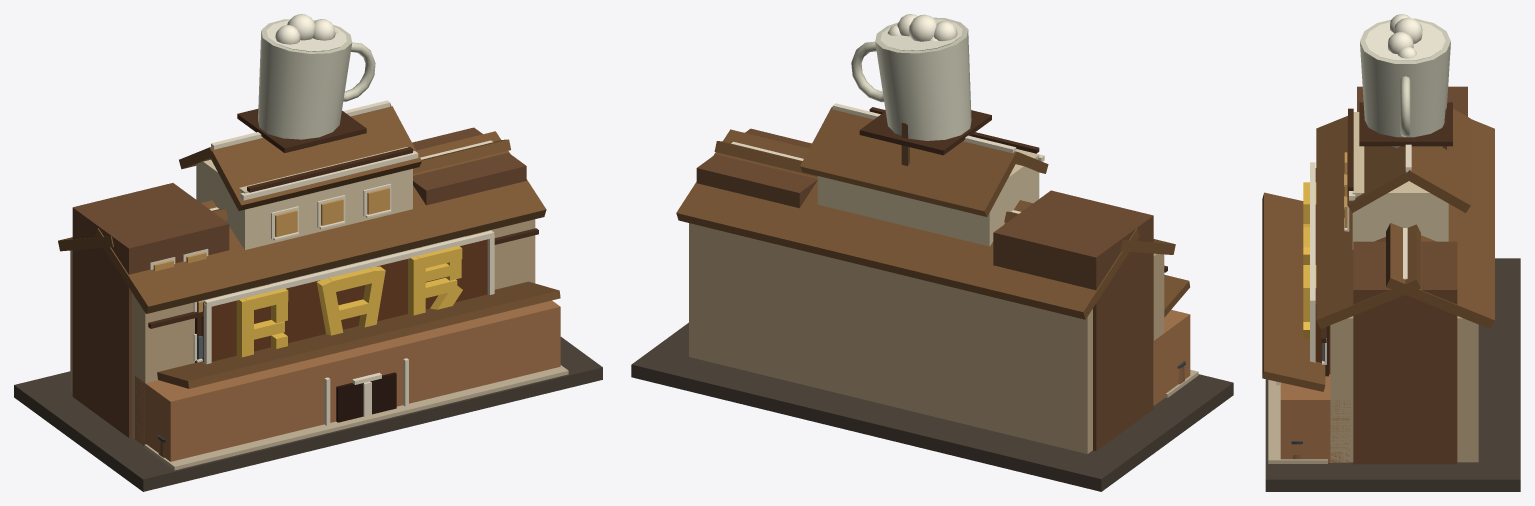
File: bar-building-wide.glb
3 views of the same model, side by side, from view 1: azimuth 30°, elevation 25°; view 2: azimuth 150°, elevation 25°; view 3: azimuth 270°, elevation 25° (orthographic). The views are drawn at different scales.
Visible parts, largest first — view 1: bar_building_wide; view 2: bar_building_wide; view 3: bar_building_wide.
Part boxes in pixels (x1,y1,x2,y2): bar_building_wide: [14, 14, 602, 491]; bar_building_wide: [631, 14, 1233, 491]; bar_building_wide: [1262, 14, 1520, 491].
Size of the model in its own units: 22.4 by 17.11 by 11.05.
